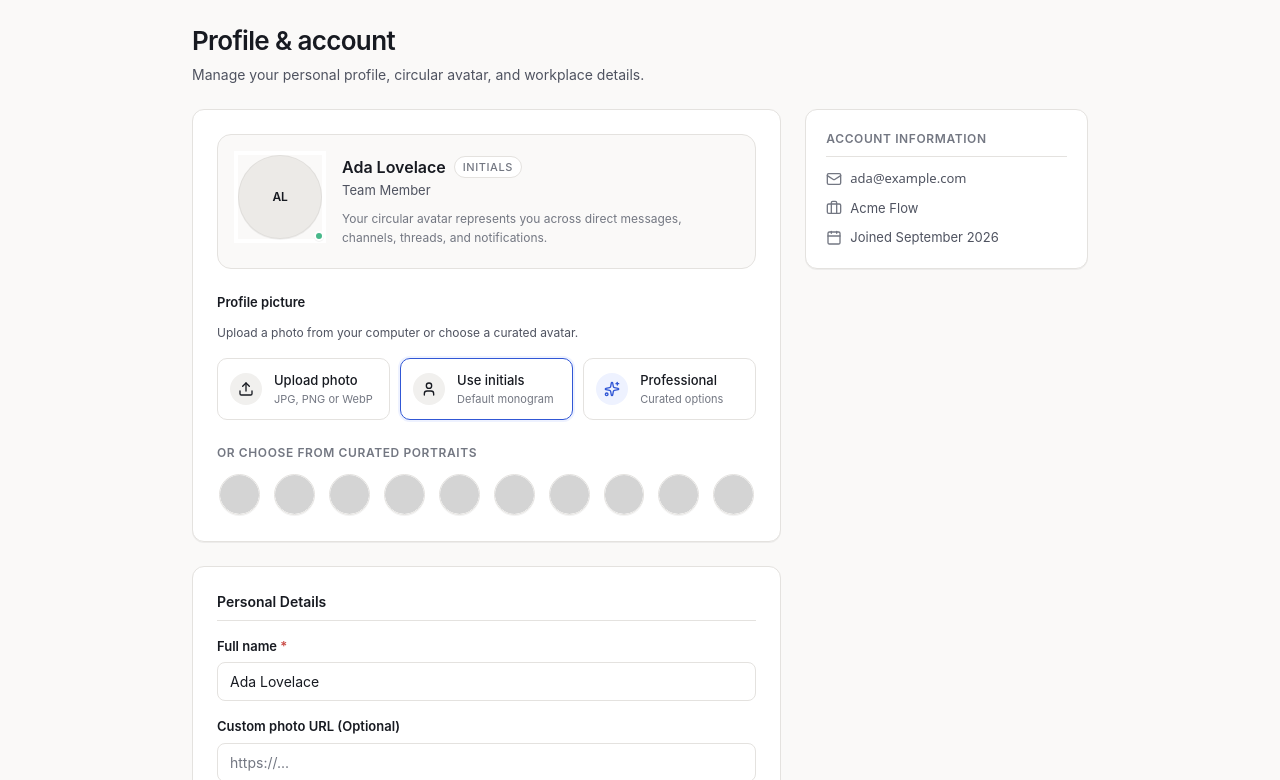
SettingsProfileView › handles unauthenticated save responses
The image size is (1280, 780).
Replace the text in the field labelled "Full name *" with "Nope" at {"x": 487, "y": 682}, box [218,663,755,700]
(page scrolled)
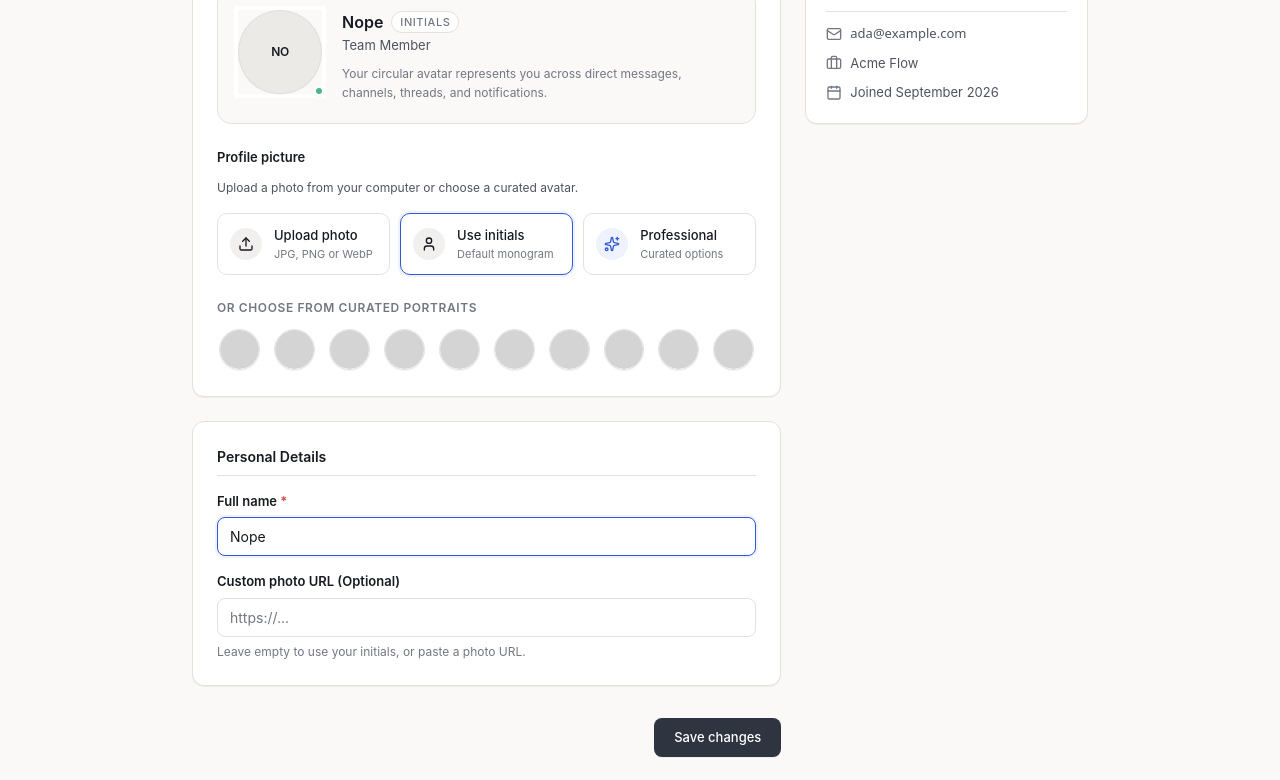
Click the button "Save changes".
click(718, 738)  # box [654,718,781,757]
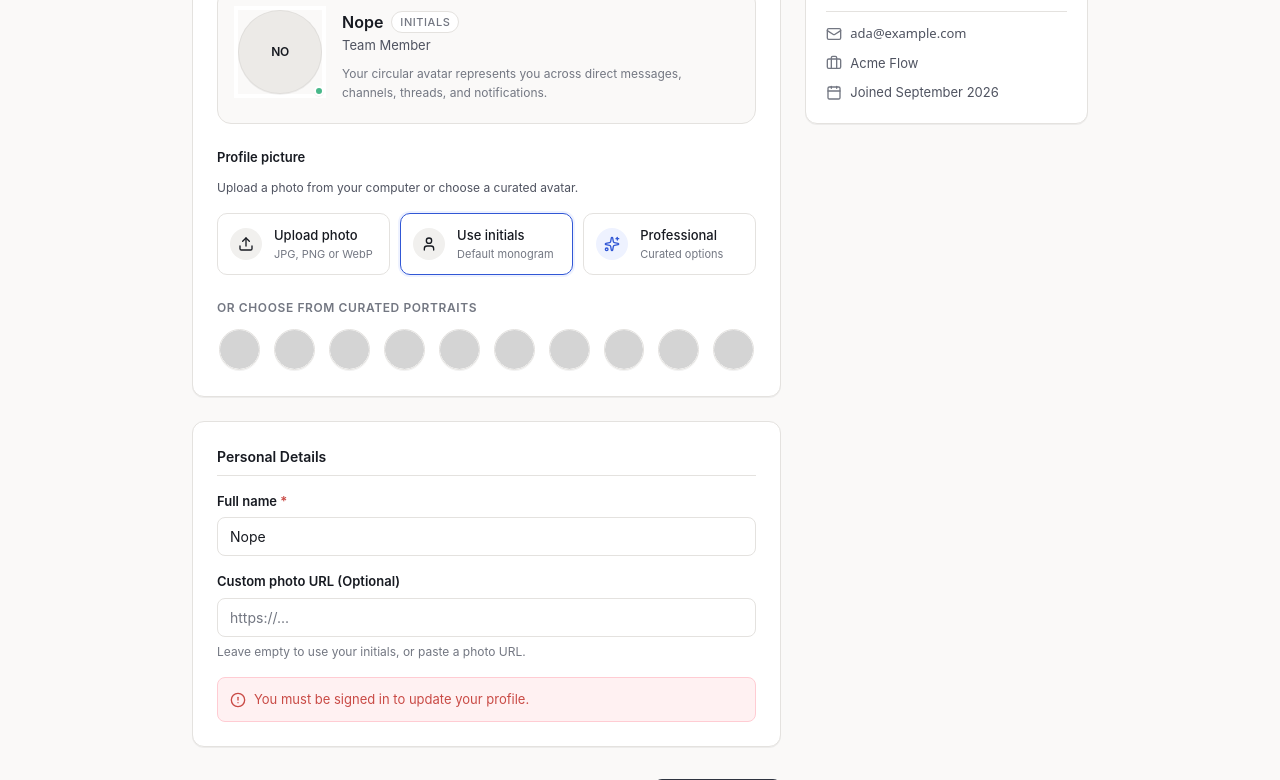
Check: the text "You must be signed in to update your profile." is shown, box [254,690,529,709]
